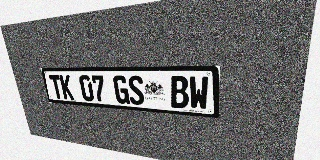0: (78, 75, 94, 101)
7: (90, 75, 107, 102)
B: (170, 76, 189, 109)
G: (113, 75, 130, 104)
K: (59, 75, 74, 100)
S: (127, 75, 145, 105)
T: (49, 75, 64, 99)
W: (189, 76, 209, 110)
